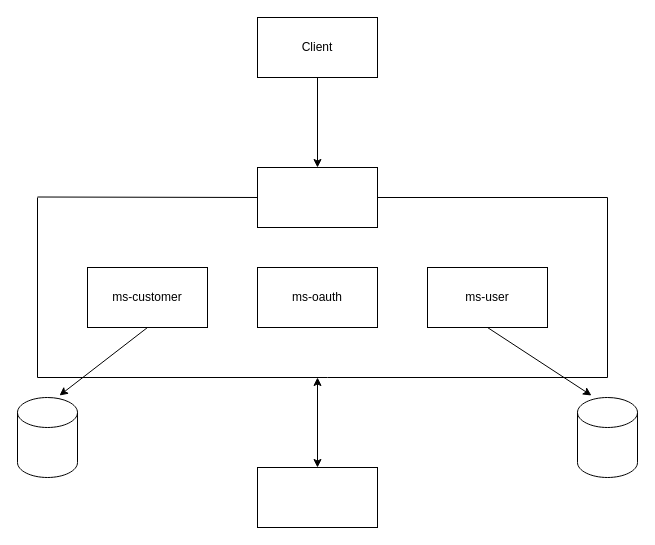
Image size: 655x545. Some labels were removed from this diagram. The centre of each missing label's shape, as x and y in pixels:
"Kafka" belongs at pixel 317 497.
"ms-api-gateway-zuul" belongs at pixel 317 197.
